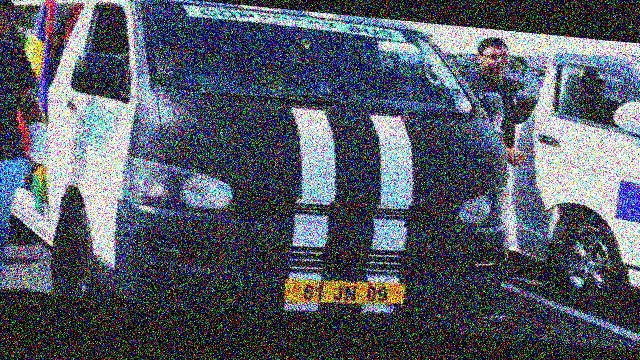van: (0, 0, 553, 326)
